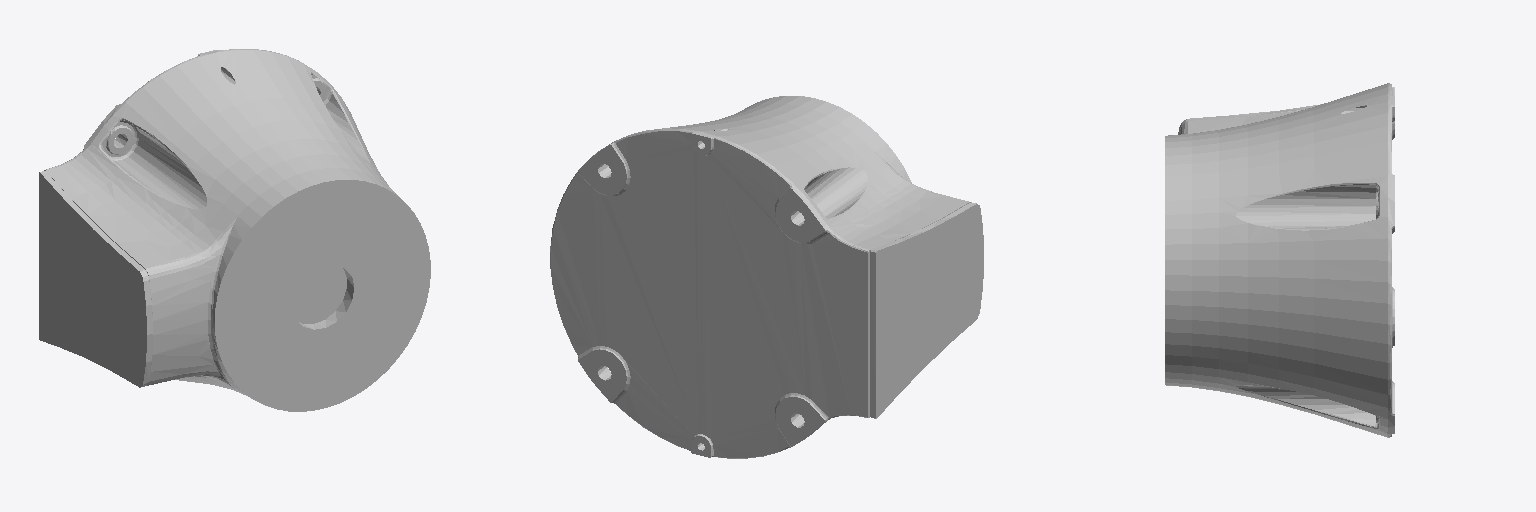
The picture shows the model from 3 angles: view 1: azimuth 30°, elevation 25°; view 2: azimuth 150°, elevation 25°; view 3: azimuth 270°, elevation 25°; orthographic projection.
Parts seen in each view (by area): view 1: Link_0; view 2: Link_0; view 3: Link_0.
Boxes of the visible parts, x1,y1,x2,y2 form: Link_0: [39, 49, 430, 411]; Link_0: [550, 96, 983, 458]; Link_0: [1165, 83, 1394, 437].
Bounding box in the file's own units: 0.2573 × 0.2428 × 0.1575.